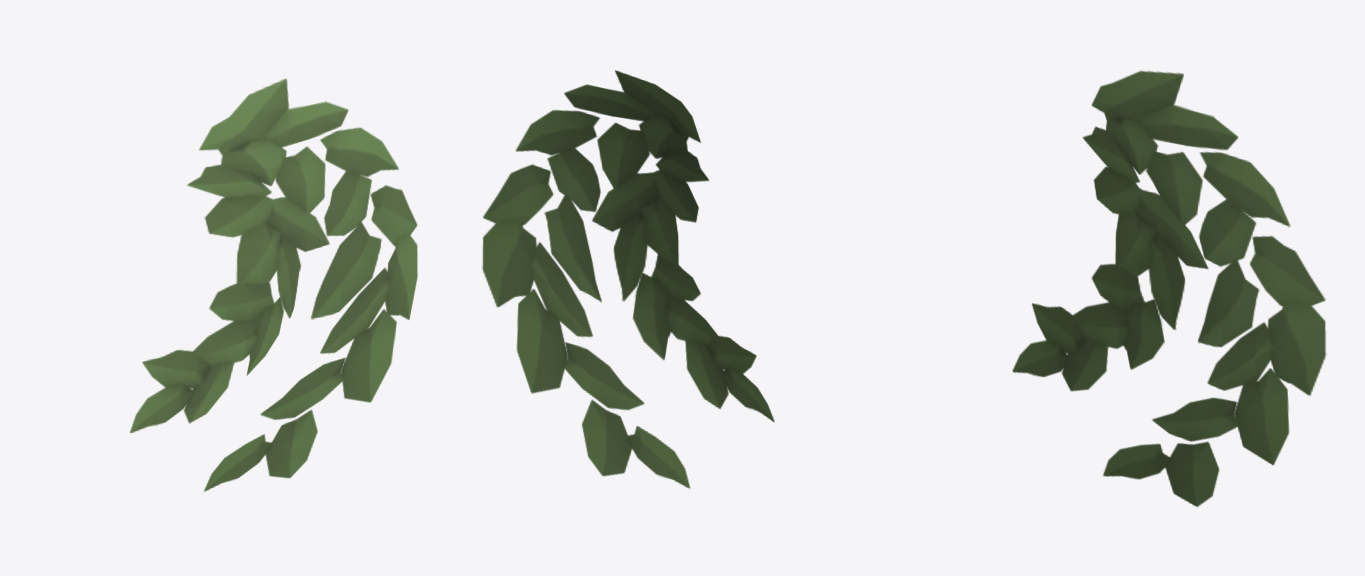
Rendered from elven_SM_Env_Leaves_Clump_06.gltf.
3 renders of one model, left to right at view 1: azimuth 30°, elevation 25°; view 2: azimuth 150°, elevation 25°; view 3: azimuth 330°, elevation 25°, orthographic. The views are drawn at different scales.
Parts seen in each view (by area): view 1: SM_Env_Leaves_Clump_06; view 2: SM_Env_Leaves_Clump_06; view 3: SM_Env_Leaves_Clump_06.
Part boxes in pixels (x1=…): SM_Env_Leaves_Clump_06: x1=130, y1=78, x2=417, y2=491; SM_Env_Leaves_Clump_06: x1=482, y1=70, x2=774, y2=488; SM_Env_Leaves_Clump_06: x1=1012, y1=70, x2=1326, y2=507.
Bounding box in the file's own units: 1.12 × 1.16 × 0.088.
1 material, 1 textured.
